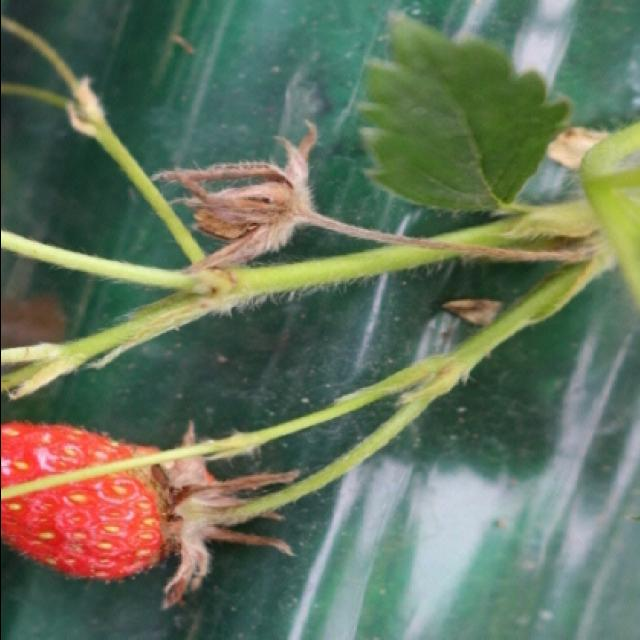Gray Mold: (148, 115, 354, 275), (150, 417, 298, 613)
